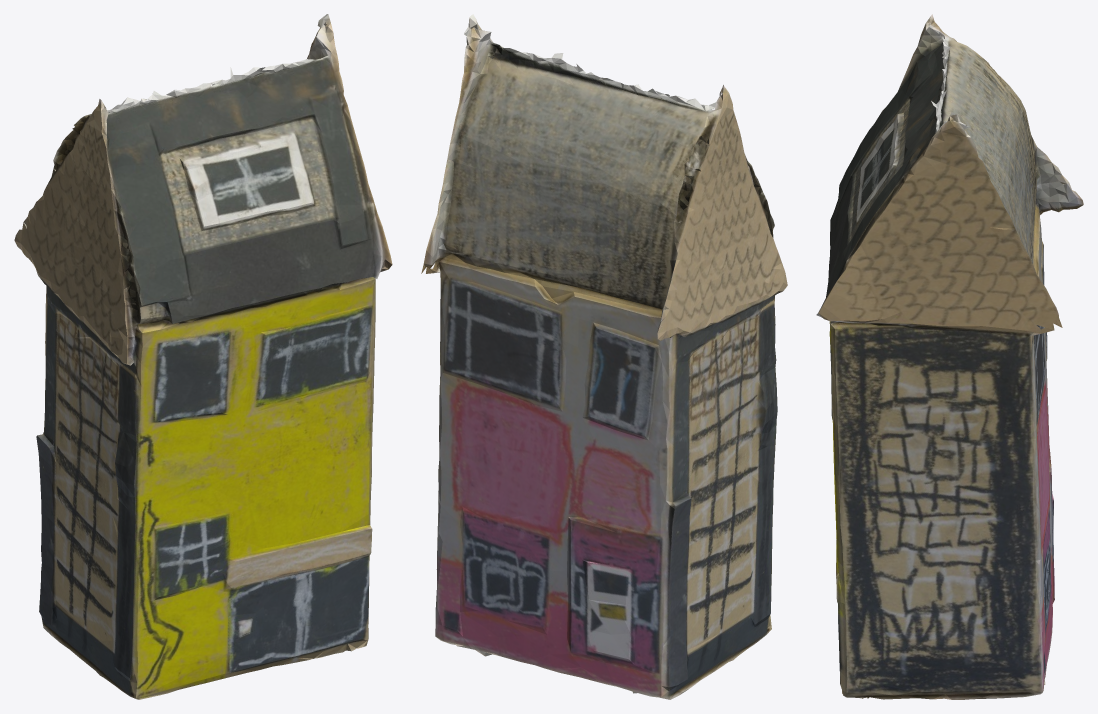
3 views of the same model, side by side, from view 1: azimuth 30°, elevation 25°; view 2: azimuth 150°, elevation 25°; view 3: azimuth 270°, elevation 25° (orthographic).
Parts seen in each view (by area): view 1: Object_0; view 2: Object_0; view 3: Object_0.
Boxes of the visible parts, left/top/right/bottom form: Object_0: left=14, top=14, right=392, bottom=699; Object_0: left=421, top=14, right=787, bottom=699; Object_0: left=816, top=14, right=1083, bottom=699.
Size of the model in its own units: 13.07 by 28.78 by 11.64.
1 material, 1 textured.
